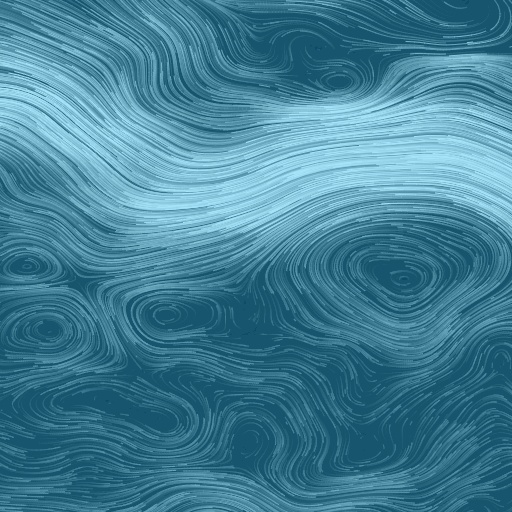eddy: (338, 228, 466, 323), (49, 381, 186, 442), (15, 294, 92, 364), (128, 286, 219, 345), (2, 242, 61, 285), (317, 65, 364, 98)
